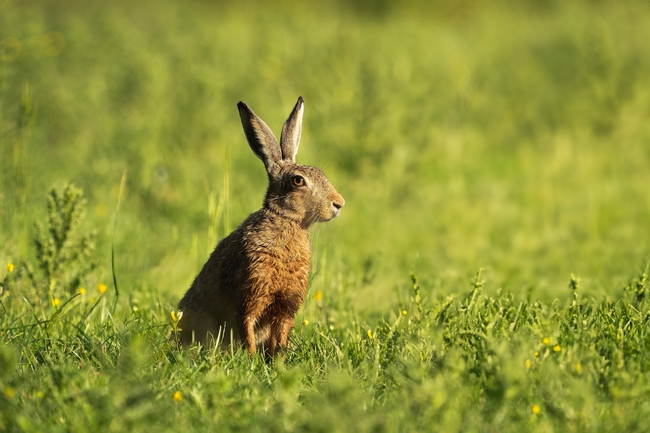rabbit: (167, 95, 343, 365)
